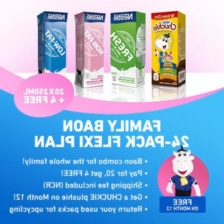carton: (146, 7, 189, 89), (108, 10, 149, 87), (69, 10, 106, 90), (28, 7, 67, 78)
